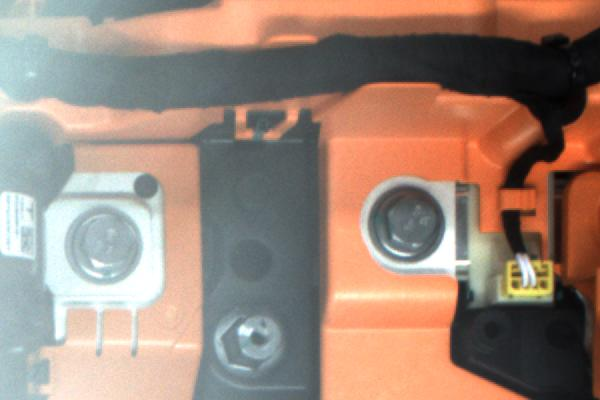nut_b: (363, 179, 451, 270), (62, 203, 148, 289)
